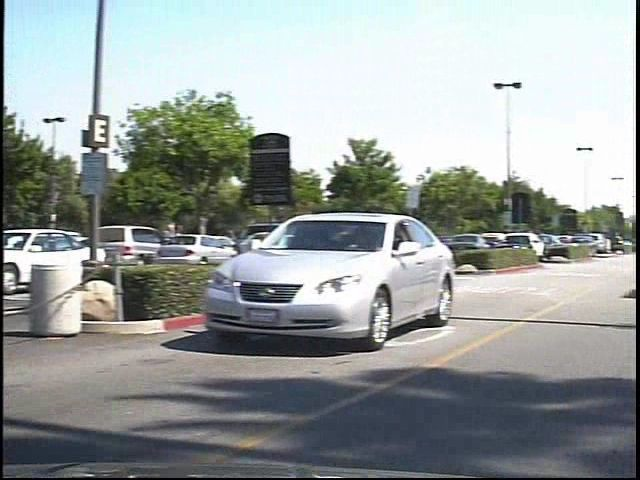person: (170, 217, 197, 267)
